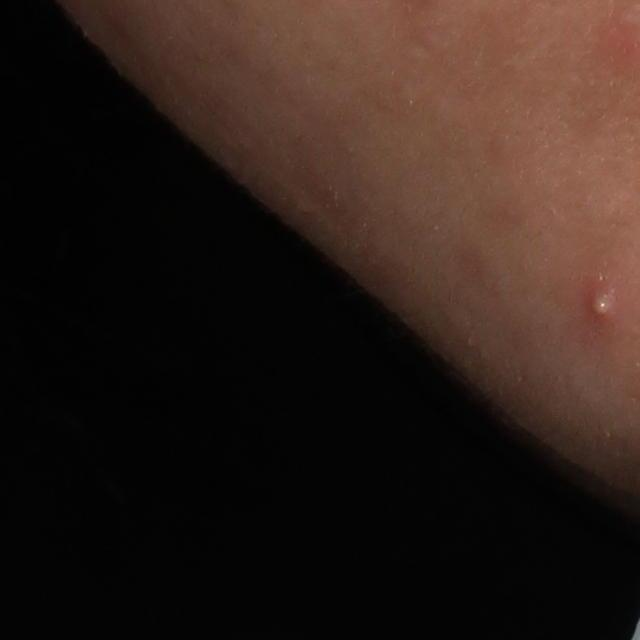pustule: (588, 286, 619, 319)
